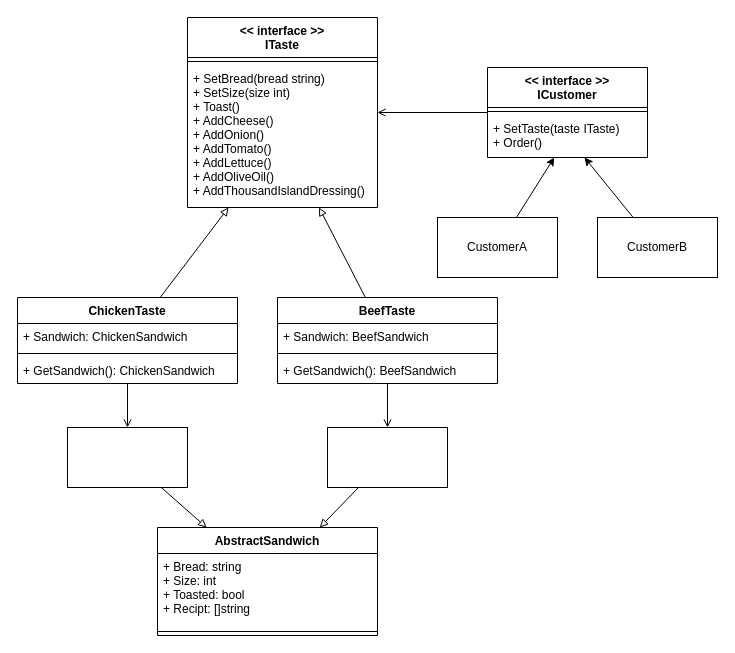
This 735x653 diagram has some shape labels left out. The centre of each missing label's shape, as x and y in pixels:
"BeefSandwich" goes at pixel 387 457.
"ChickenSandwich" goes at pixel 127 457.
